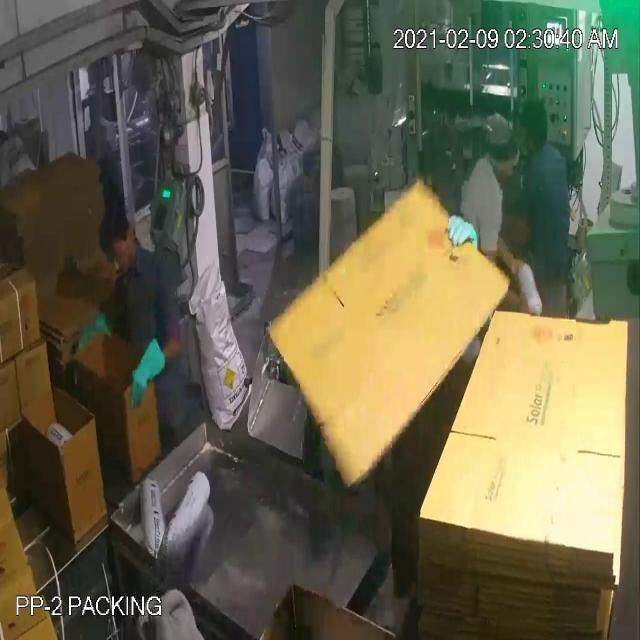Gloves: (44, 50, 511, 372)
